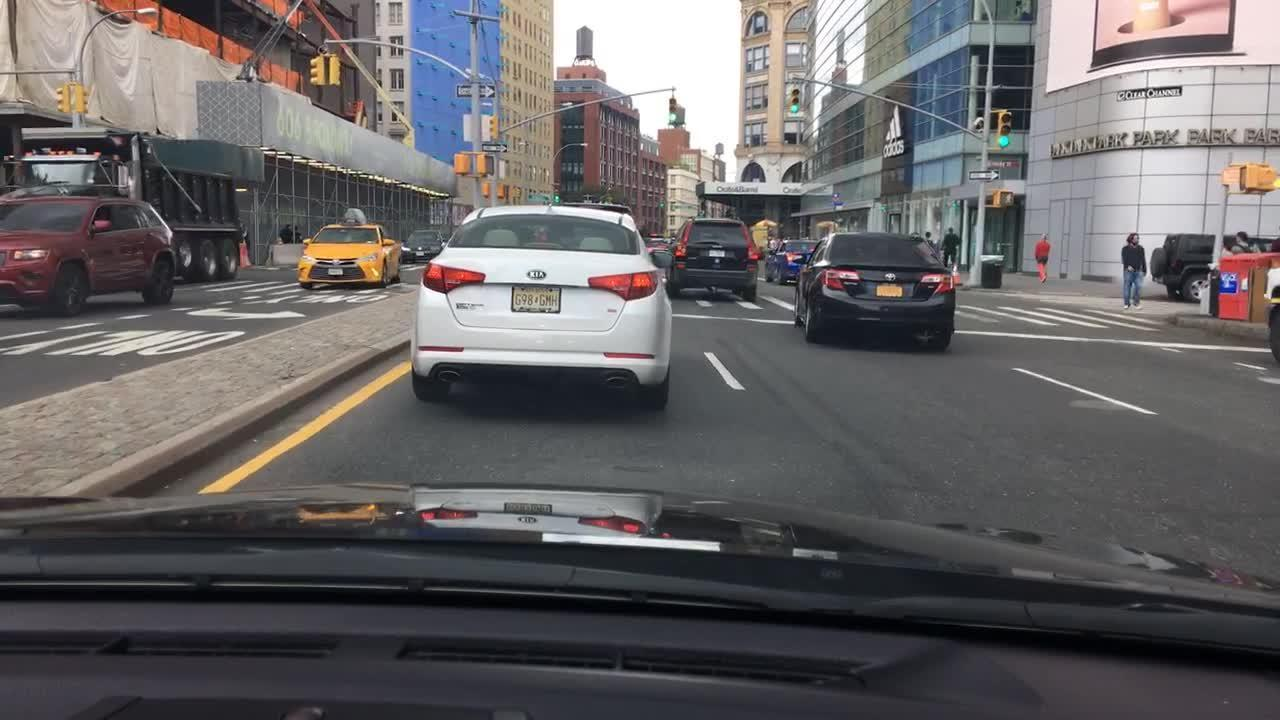Toyota: (882, 271, 900, 284)
jeep: (708, 243, 728, 251)
kia: (520, 264, 550, 286)
